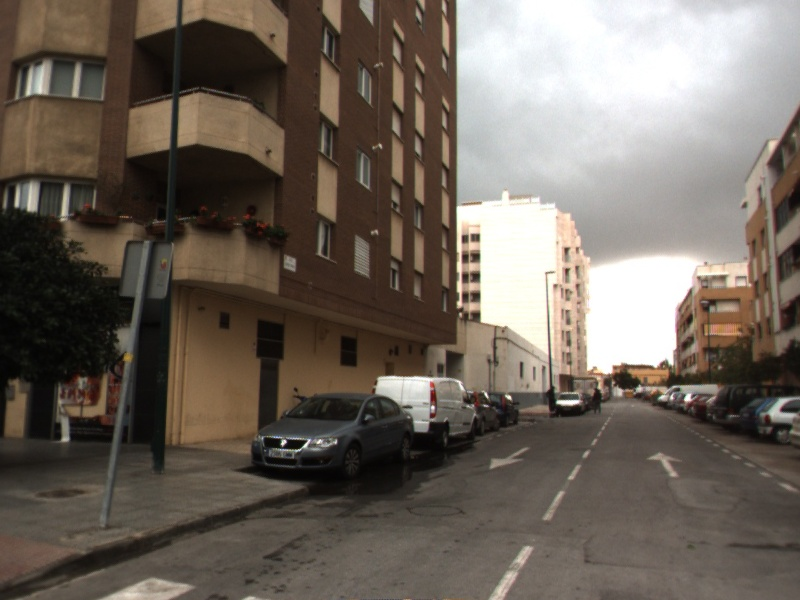STRAIGHT: (644, 451, 685, 479)
